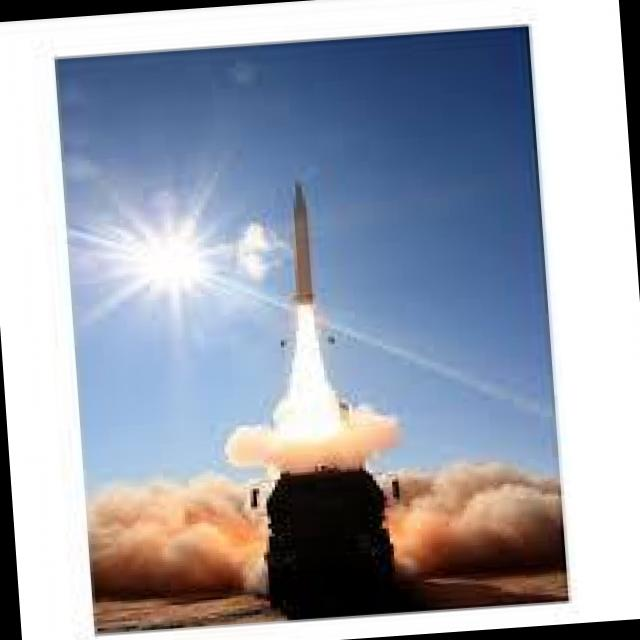rocket: (269, 174, 343, 429)
